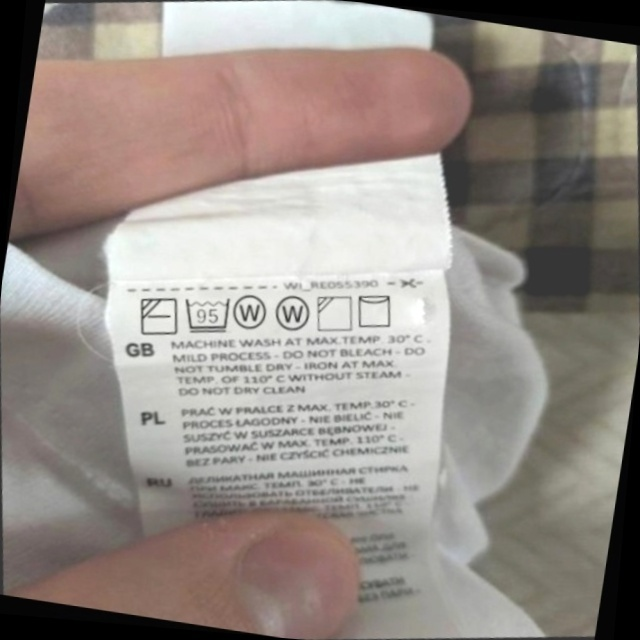95C: (177, 287, 238, 341)
dry_flat_in_shade: (132, 288, 185, 344)
line_dry: (349, 285, 401, 336)
shade_dry: (309, 287, 361, 339)
wet_clean: (227, 285, 276, 337), (268, 288, 317, 339)
